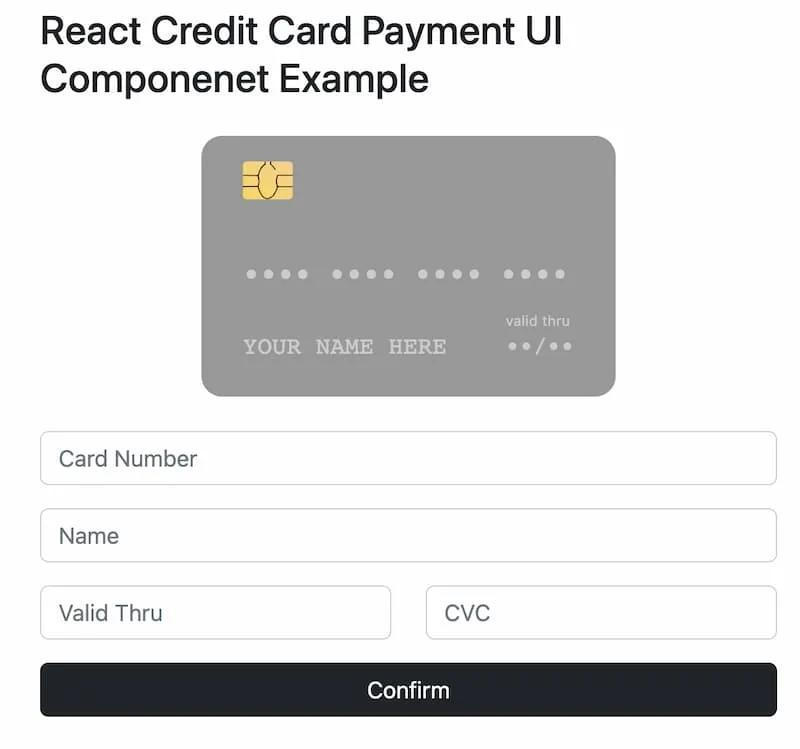button: (39, 660, 780, 720)
input: (40, 509, 778, 563), (40, 433, 776, 486), (40, 585, 391, 640), (427, 586, 777, 641)
